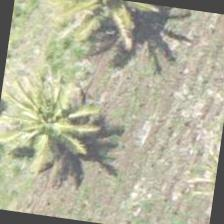Kelapa_Sawit: (5, 69, 106, 171)
